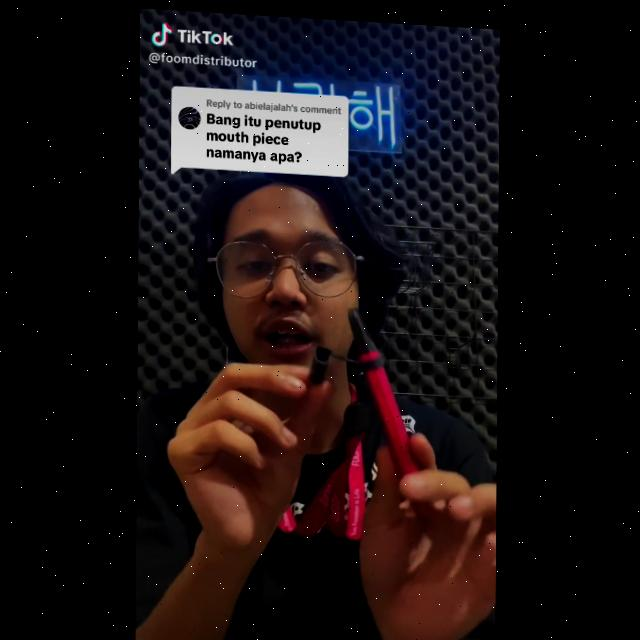vape: (344, 299, 430, 495)
